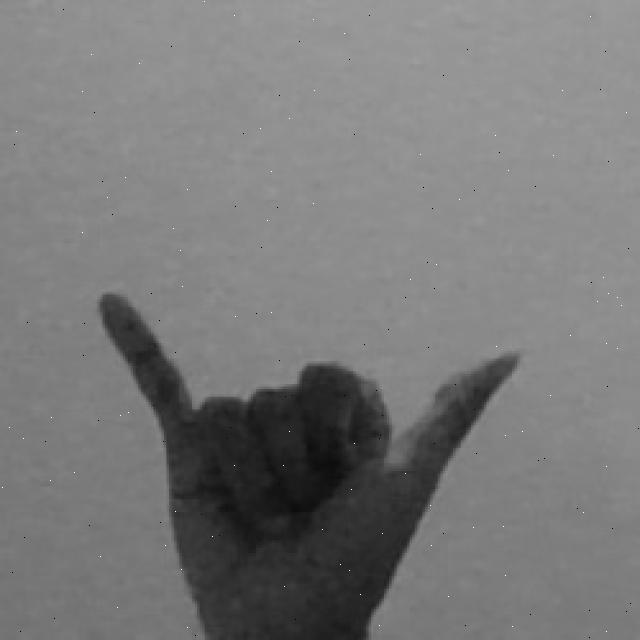Y: (90, 284, 526, 640)
